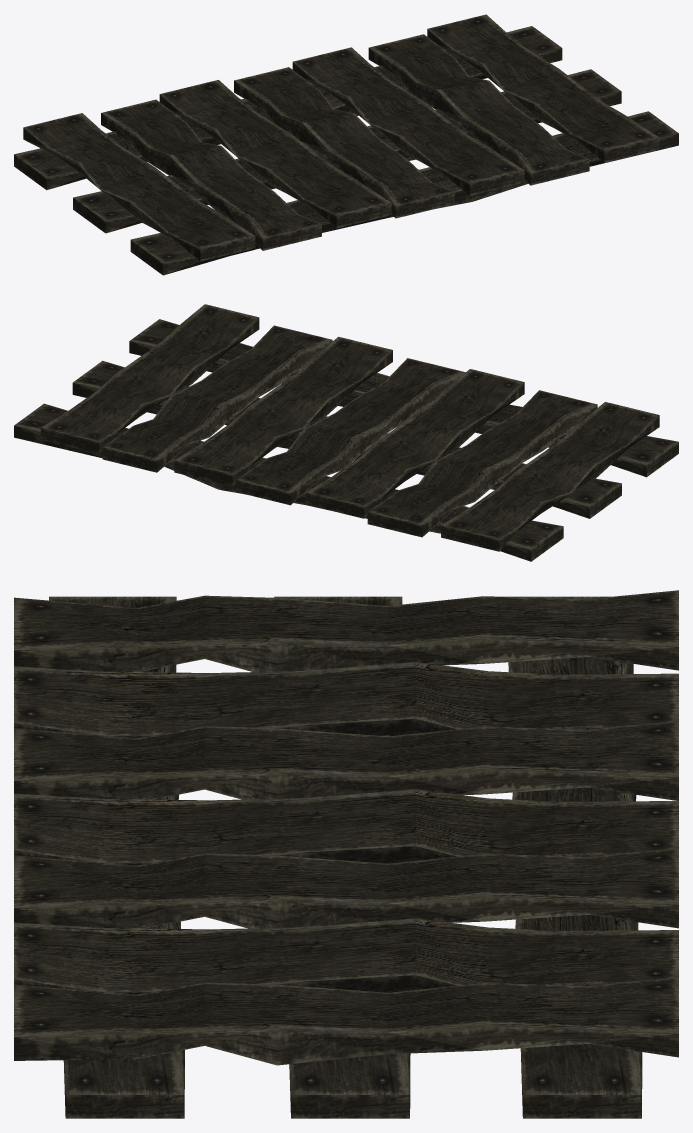
The model's file is wood_rack01.DAE.
3 views of the same model, one above another, from view 1: azimuth 30°, elevation 25°; view 2: azimuth 150°, elevation 25°; view 3: azimuth 270°, elevation 25° (orthographic). The views are drawn at different scales.
Visible parts, largest first — view 1: Box002; view 2: Box002; view 3: Box002.
Boxes of the visible parts, box(x1,y1,x2,y2) form: Box002: box(14, 14, 678, 275); Box002: box(14, 304, 678, 561); Box002: box(14, 590, 678, 1118).
Size of the model in its own units: 4.38 by 2.47 by 0.2725.
